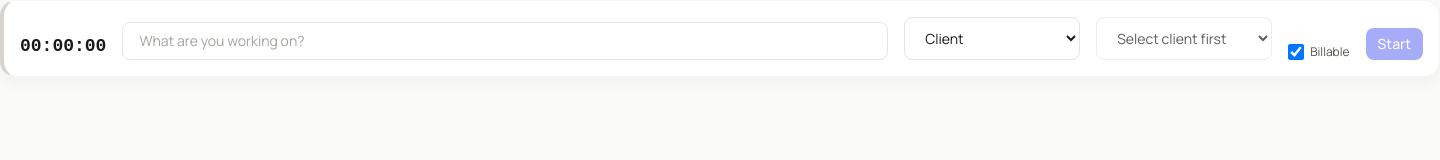
Test: RunningTimer › shows Stop button after starting
This screenshot has width=1440, height=160.
// Fill in description
Step 1. Type "Working on tests" into the field with placeholder "What are you working on?" → (505, 41), box x1=122 y1=22 x2=888 y2=60
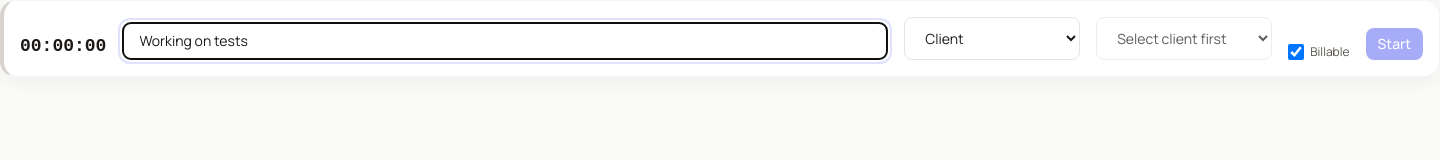
// Select client
Step 2. Select "Acme Corp" in the 1st dropdown → (992, 38), box x1=904 y1=17 x2=1080 y2=60
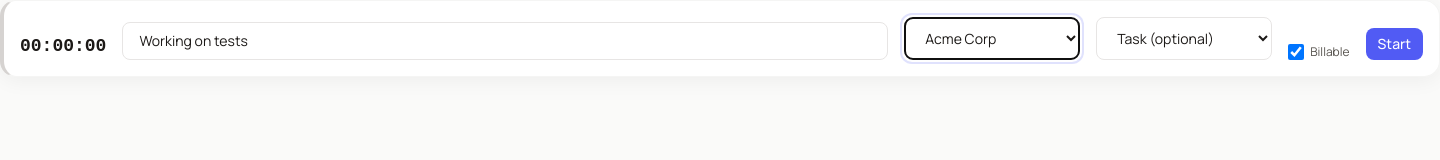
// Click Start
Step 3. Click the button "Start" → (1394, 44), box x1=1366 y1=28 x2=1423 y2=60
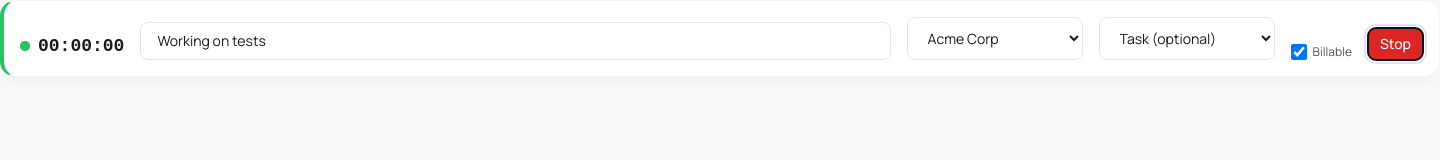
Result: the button "Stop" is shown at x1=1368 y1=28 x2=1423 y2=60
